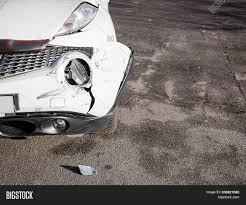front-bumper-dent: (0, 38, 141, 136)
